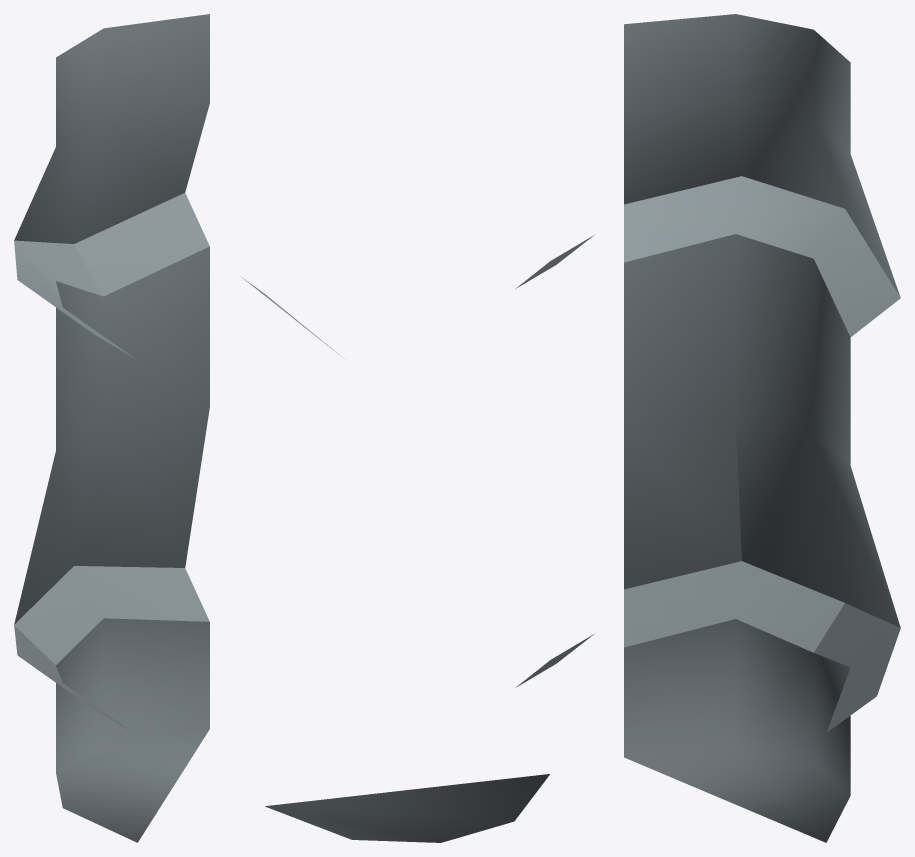
The model's file is Hill_Cliff_Tall_I_InnerCorner_Color1.gltf.
3 renders of one model, left to right at view 1: azimuth 30°, elevation 25°; view 2: azimuth 150°, elevation 25°; view 3: azimuth 270°, elevation 25°, orthographic. The views are drawn at different scales.
Parts seen in each view (by area): view 1: Hill_Cliff_Tall_I_InnerCorner_Color1; view 2: Hill_Cliff_Tall_I_InnerCorner_Color1; view 3: Hill_Cliff_Tall_I_InnerCorner_Color1.
Part boxes in pixels (bbox=[...]): Hill_Cliff_Tall_I_InnerCorner_Color1: bbox=[14, 14, 209, 842]; Hill_Cliff_Tall_I_InnerCorner_Color1: bbox=[240, 235, 593, 842]; Hill_Cliff_Tall_I_InnerCorner_Color1: bbox=[624, 14, 900, 842].
Bounding box in the file's own units: 1.37 × 4 × 1.37.
Materials: 1 (1 with a texture image).
